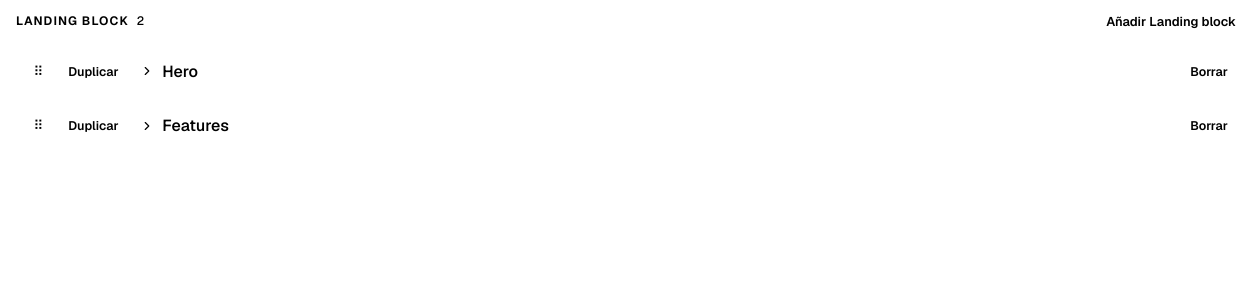
Test case: RecordBlocks.svelte › edición concurrente: reordenar un bloque y después guardarlo NO es un conflicto
The image size is (1253, 286).
Press ArrowDown in the 1st button "⠿", box [26,59,51,84]
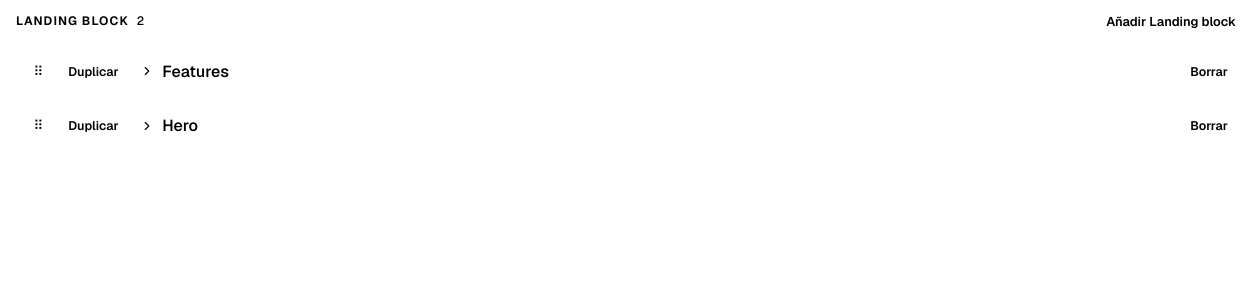
Click the button "Hero". click: (180, 126)
box: [136,112,1173,140]
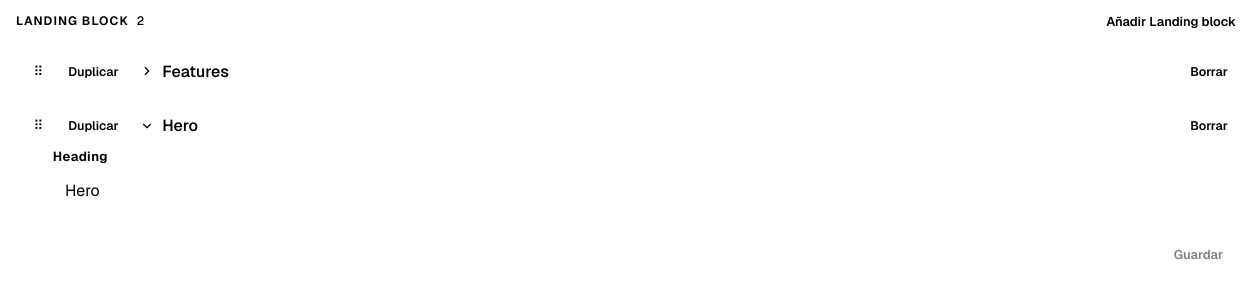
Replace the text in the field labelled "Heading" with "Hero tras mover". click: (644, 191)
box: [53,171,1236,211]
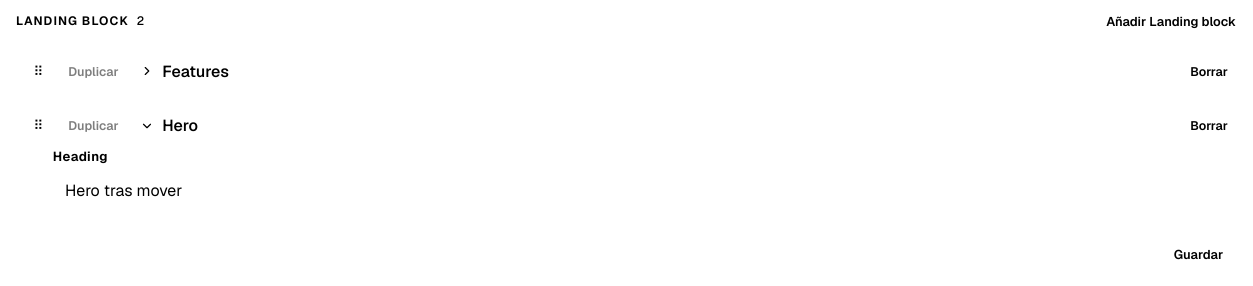
Click the button "Guardar". click: (1198, 254)
box: [1161,239,1236,269]
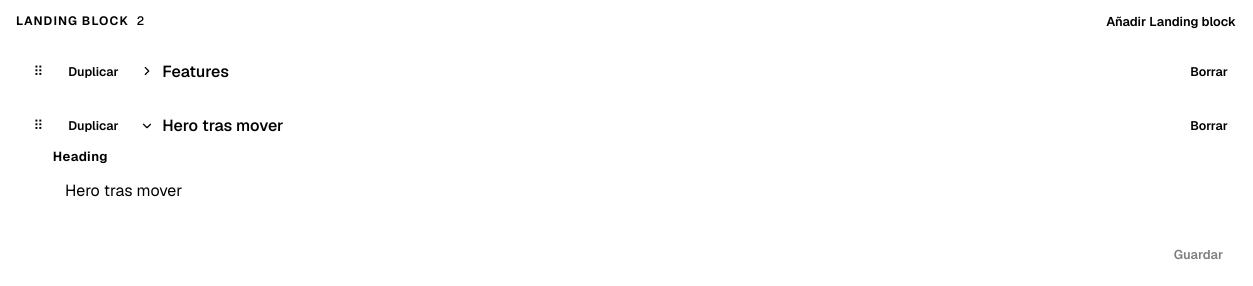
Now the text "Hero tras mover" is shown, box [162,115,284,136]
